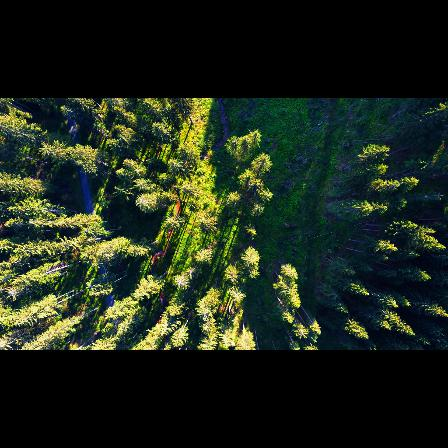Sick: (173, 274, 189, 290)
